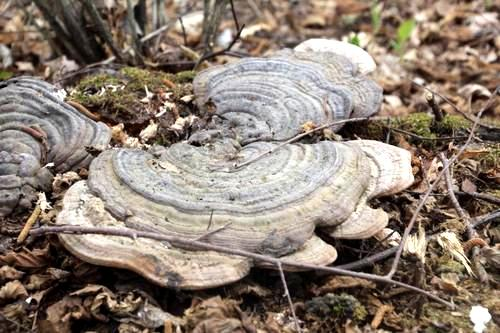Ganoderma - Fruit Body: (55, 145, 415, 288), (194, 39, 387, 138), (0, 77, 114, 145)
